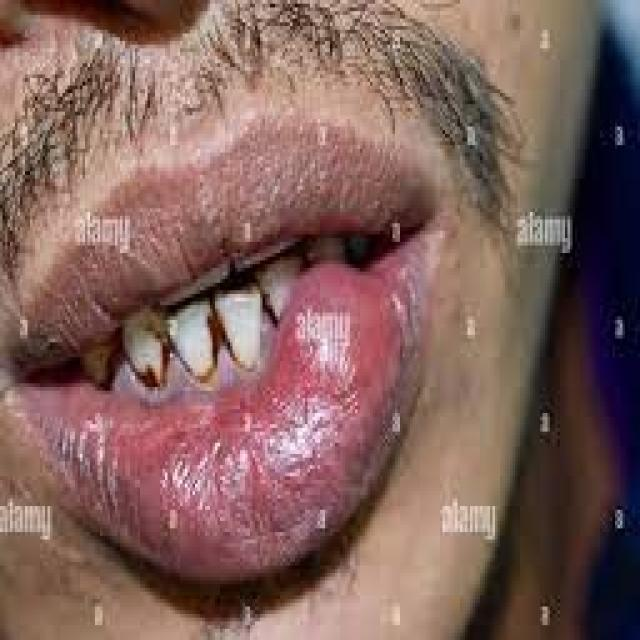abscess: (271, 270, 404, 400)
